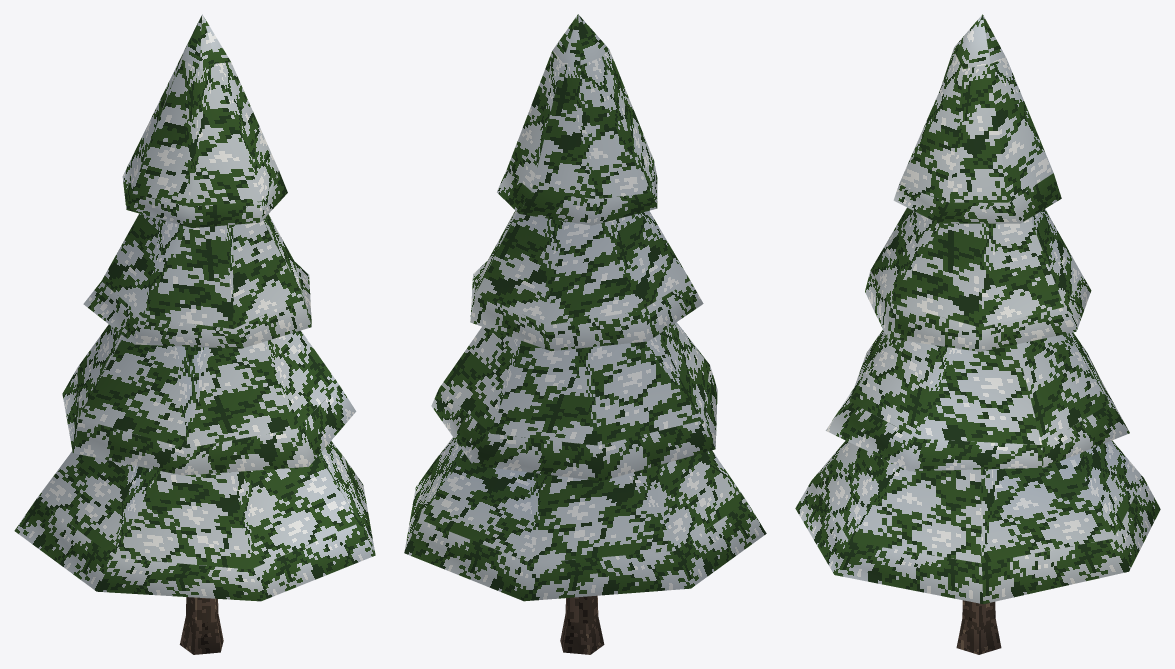
The model's file is mnat.pine.glb.
3 renders of one model, left to right at view 1: azimuth 30°, elevation 25°; view 2: azimuth 150°, elevation 25°; view 3: azimuth 270°, elevation 25°, orthographic.
Parts seen in each view (by area): view 1: kit_tiers, kit_trunk; view 2: kit_tiers, kit_trunk; view 3: kit_tiers, kit_trunk.
Boxes of the visible parts, x1=… form: kit_tiers: x1=14, y1=14, x2=375, y2=601; kit_trunk: x1=179, y1=597, x2=223, y2=654; kit_tiers: x1=404, y1=14, x2=766, y2=601; kit_trunk: x1=560, y1=595, x2=604, y2=654; kit_tiers: x1=795, y1=14, x2=1160, y2=604; kit_trunk: x1=956, y1=600, x2=1001, y2=654.
Size of the model in its own units: 4.52 by 8.74 by 4.59.
Materials: 2 (2 with a texture image).
